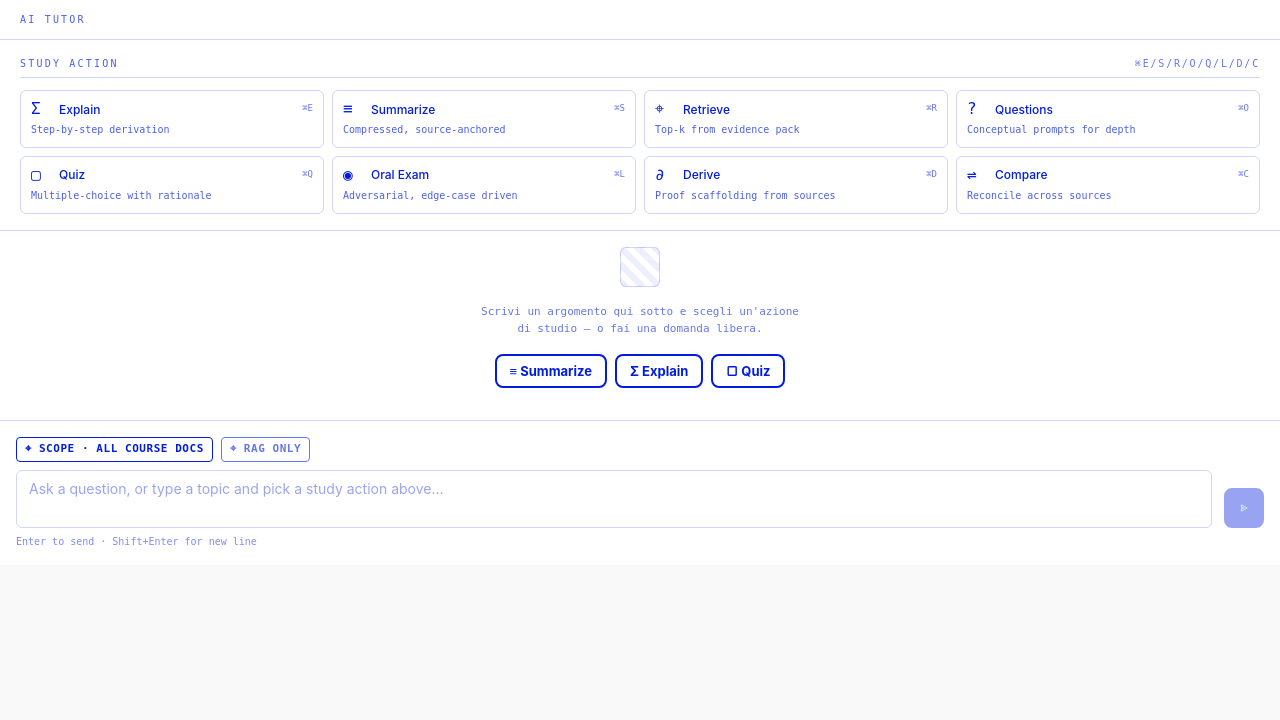
Test case: OutputPane › sending a message › shows loading dots while waiting for response
This screenshot has width=1280, height=720.
Type "Question?" into the text box named "message input" at (614, 499), box 16,470 -> 1212,528
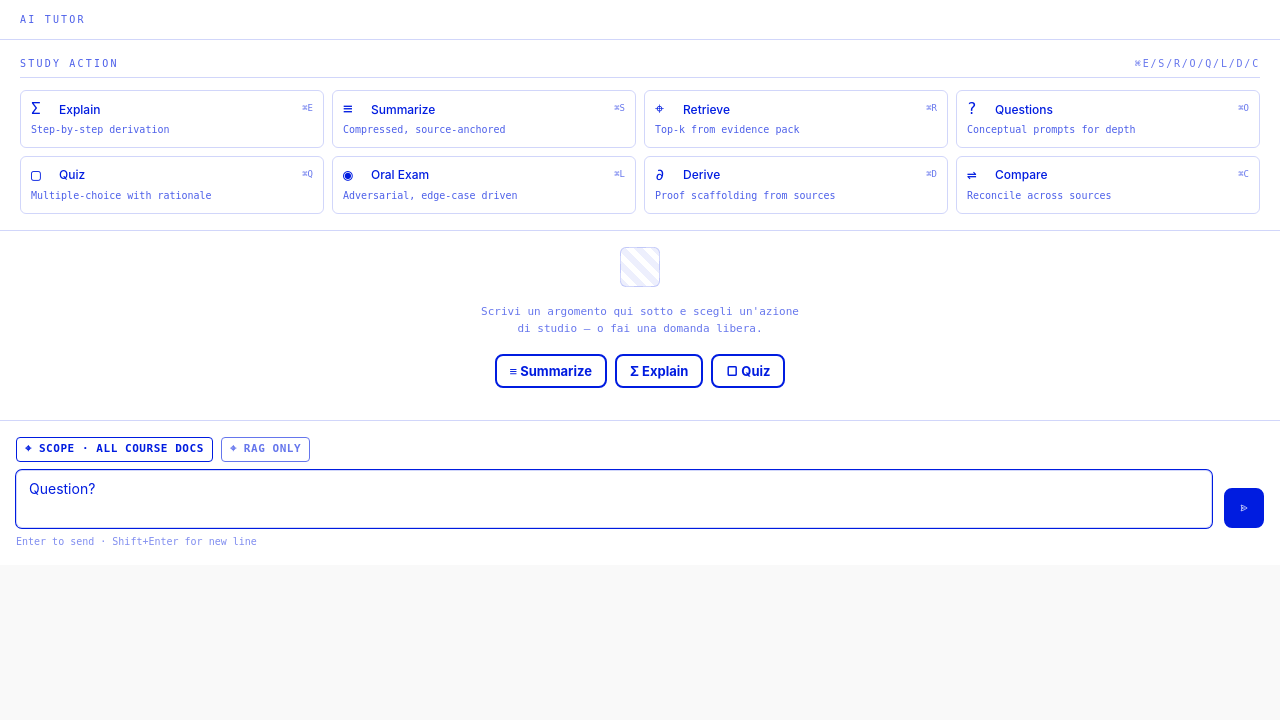
Click the button named "send message" at (1244, 508), box 1224,488 -> 1264,528
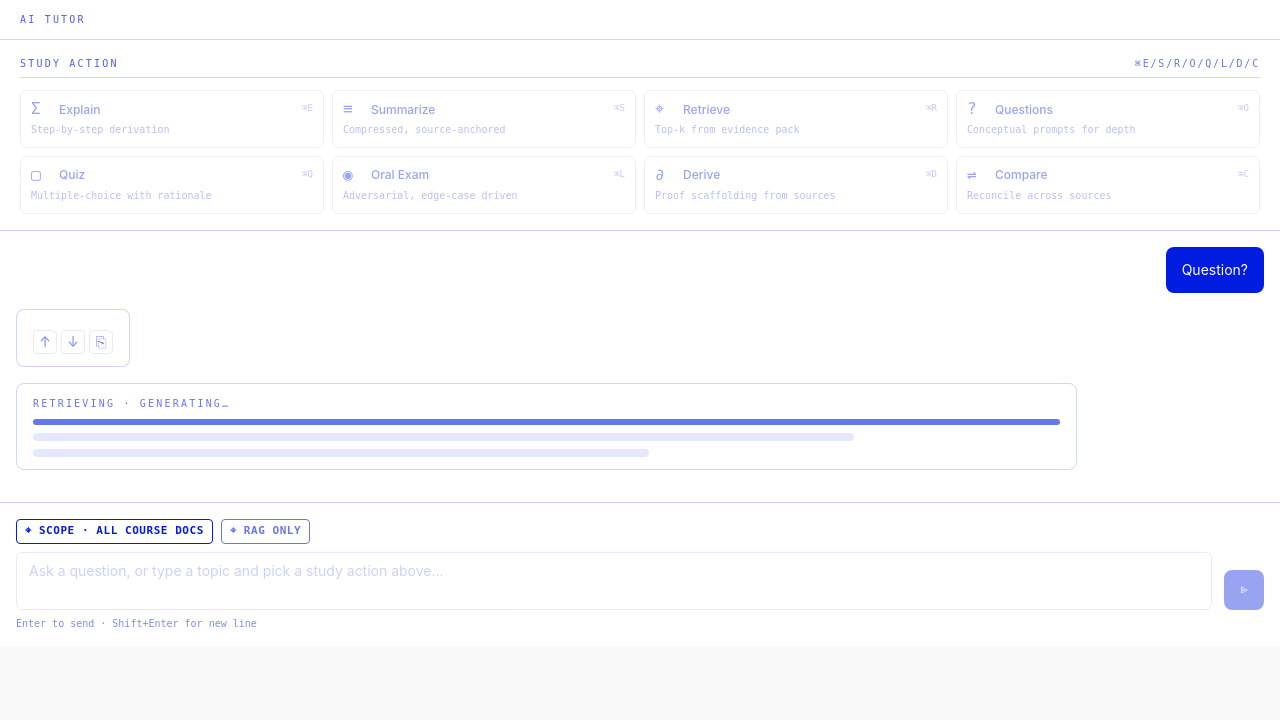
Expected: the element named "loading response" is shown, 16,383 -> 1077,470
